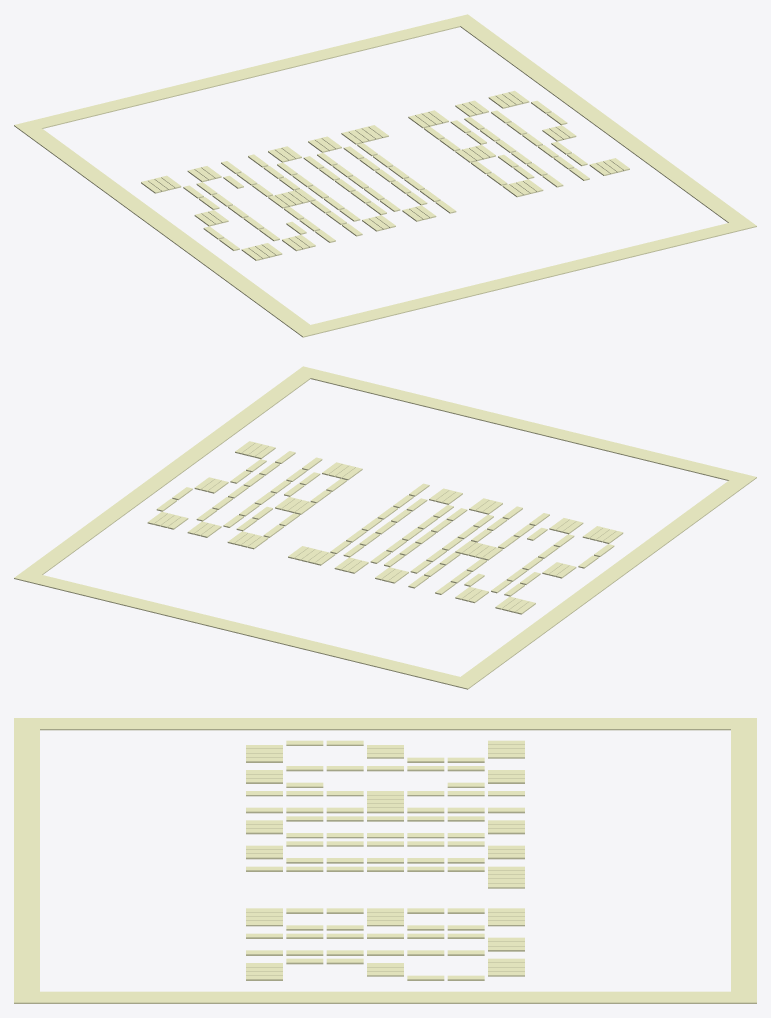
File: marking_school_bus_box_white.glb
The picture shows the model from 3 angles, top to bottom: view 1: azimuth 30°, elevation 25°; view 2: azimuth 150°, elevation 25°; view 3: azimuth 270°, elevation 25°; orthographic projection. The views are drawn at different scales.
Visible parts, largest first — view 1: school_bus_box_bottom, school_bus_box_top, school_bus_box_left, school_bus_box_right; view 2: school_bus_box_top, school_bus_box_bottom, school_bus_box_left, school_bus_box_right; view 3: school_bus_box_left, school_bus_box_right, school_bus_box_top, school_bus_box_bottom.
Part boxes in pixels (x1=…): school_bus_box_bottom: x1=293, y1=218, x2=756, y2=337; school_bus_box_top: x1=14, y1=14, x2=477, y2=132; school_bus_box_left: x1=24, y1=128, x2=309, y2=329; school_bus_box_right: x1=460, y1=22, x2=746, y2=222; school_bus_box_top: x1=14, y1=570, x2=477, y2=689; school_bus_box_bottom: x1=293, y1=366, x2=756, y2=484; school_bus_box_left: x1=461, y1=480, x2=746, y2=681; school_bus_box_right: x1=24, y1=374, x2=310, y2=574; school_bus_box_left: x1=40, y1=718, x2=730, y2=730; school_bus_box_right: x1=40, y1=991, x2=730, y2=1003; school_bus_box_top: x1=731, y1=718, x2=756, y2=1003; school_bus_box_bottom: x1=14, y1=718, x2=39, y2=1003.
Size of the model in its own units: 2.32 by 0.006 by 2.56.
